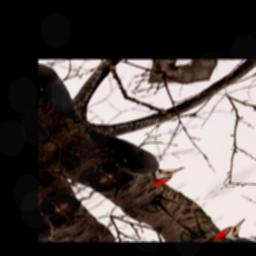Woodpecker: (77, 109, 189, 195)
